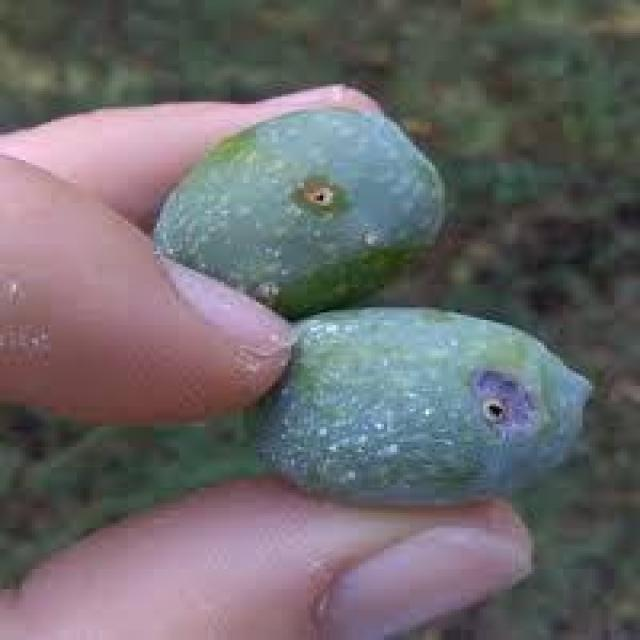Anthracnose: (259, 307, 589, 503), (154, 109, 442, 315)
